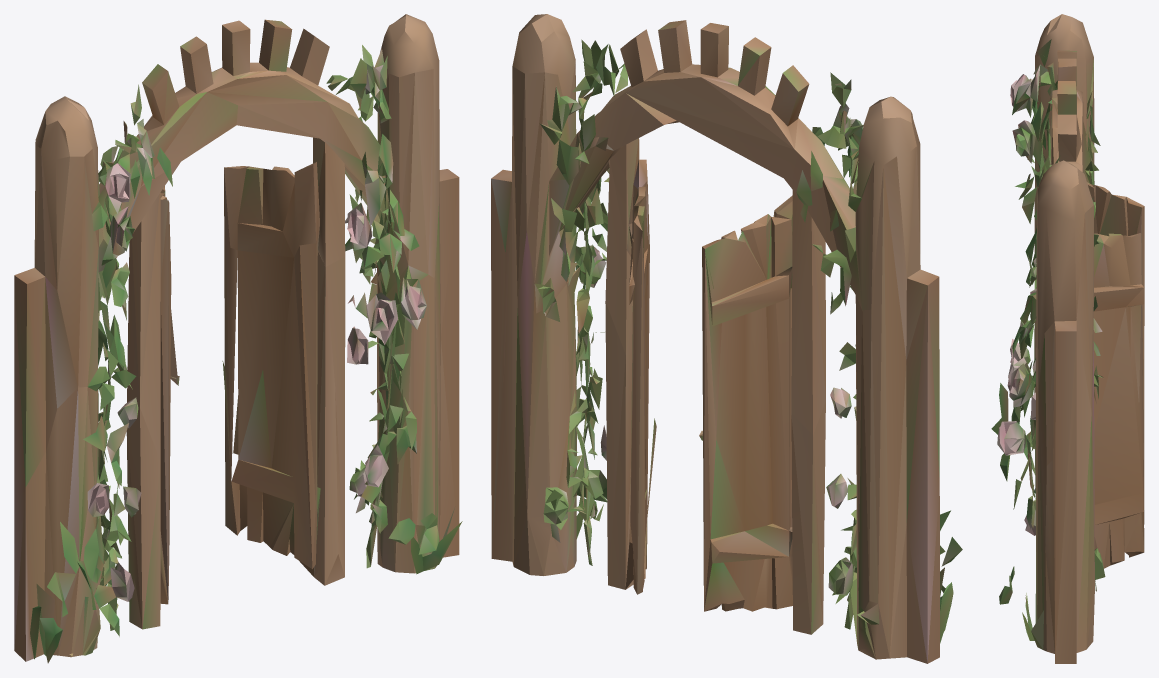
Rendered from rose_arch.glb.
The picture shows the model from 3 angles, left to right: view 1: azimuth 30°, elevation 25°; view 2: azimuth 150°, elevation 25°; view 3: azimuth 270°, elevation 25°; orthographic projection. The views are drawn at different scales.
Parts seen in each view (by area): view 1: geometry_0; view 2: geometry_0; view 3: geometry_0.
Part boxes in pixels (x1,y1,x2,y2): geometry_0: [14, 14, 462, 663]; geometry_0: [491, 14, 962, 663]; geometry_0: [991, 14, 1144, 663].
Size of the model in its own units: 2.6 by 3.3 by 0.9.
